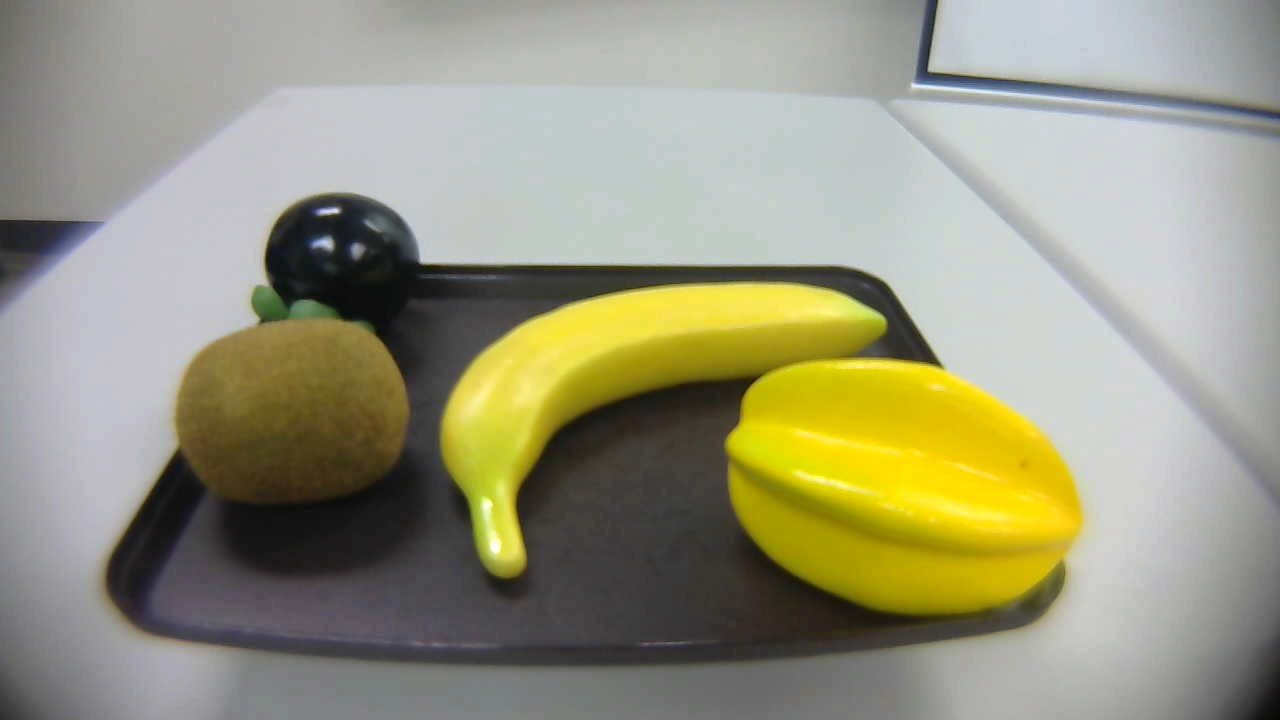banana: (432, 274, 892, 578)
kiwi fruit: (162, 304, 420, 526)
mangosteen: (245, 191, 433, 358)
star fruit: (725, 356, 1098, 629)
